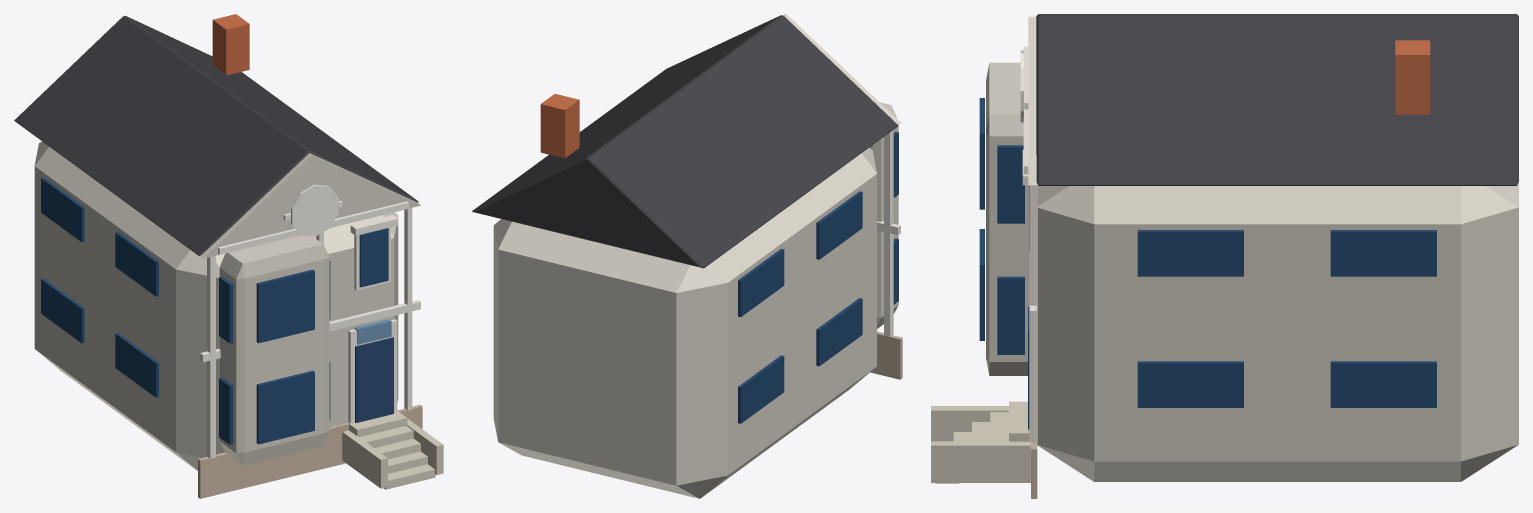
The model's file is stick_w7_gable.glb.
The picture shows the model from 3 angles, left to right: view 1: azimuth 30°, elevation 25°; view 2: azimuth 150°, elevation 25°; view 3: azimuth 270°, elevation 25°; orthographic projection. The views are drawn at different scales.
Visible parts, largest first — view 1: roof, walls, bay, roof.001, bsmt, bw.001, bw, door, chim, fan, stick.002, sb.006 (+21 smaller); view 2: walls, roof, chim, sb, sb.002, sb.004, sb.006, bay, bsmt, stick.003, stick, roof.001; view 3: walls, roof, bay, sb.001, sb.003, sb.005, sb.007, cheek.001, chim, stick.002, bws.001, bws.003 (+5 smaller).
Boxes of the visible parts, x1=… form: roof: x1=14, y1=15, x2=418, y2=255; walls: x1=34, y1=141, x2=398, y2=470; bay: x1=219, y1=235, x2=329, y2=465; roof.001: x1=200, y1=153, x2=421, y2=258; bsmt: x1=198, y1=404, x2=422, y2=498; bw.001: x1=256, y1=269, x2=314, y2=343; bw: x1=256, y1=370, x2=314, y2=444; door: x1=355, y1=337, x2=393, y2=422; chim: x1=212, y1=14, x2=249, y2=75; fan: x1=291, y1=184, x2=338, y2=236; stick.002: x1=404, y1=208, x2=412, y2=410; sb.006: x1=41, y1=177, x2=84, y2=242; walls: x1=493, y1=148, x2=876, y2=498; roof: x1=472, y1=15, x2=898, y2=268; chim: x1=540, y1=94, x2=579, y2=158; sb: x1=816, y1=298, x2=862, y2=366; sb.002: x1=738, y1=355, x2=784, y2=423; sb.004: x1=816, y1=191, x2=862, y2=259; sb.006: x1=738, y1=248, x2=784, y2=316; bay: x1=869, y1=102, x2=898, y2=328; bsmt: x1=870, y1=331, x2=902, y2=379; stick.003: x1=887, y1=130, x2=893, y2=337; stick: x1=884, y1=133, x2=888, y2=336; roof.001: x1=783, y1=14, x2=900, y2=124; walls: x1=1037, y1=182, x2=1518, y2=481; roof: x1=1036, y1=14, x2=1518, y2=185; bay: x1=986, y1=62, x2=1029, y2=375; sb.001: x1=1137, y1=361, x2=1243, y2=407; sb.003: x1=1330, y1=361, x2=1436, y2=407; sb.005: x1=1137, y1=230, x2=1243, y2=276; sb.007: x1=1330, y1=230, x2=1436, y2=276; cheek.001: x1=931, y1=441, x2=1030, y2=482; chim: x1=1395, y1=40, x2=1430, y2=114; stick.002: x1=1029, y1=185, x2=1037, y2=442; bws.001: x1=997, y1=276, x2=1024, y2=354; bws.003: x1=997, y1=145, x2=1024, y2=223.
Bounding box in the file's own units: 7.8 × 10.64 × 13.4.
